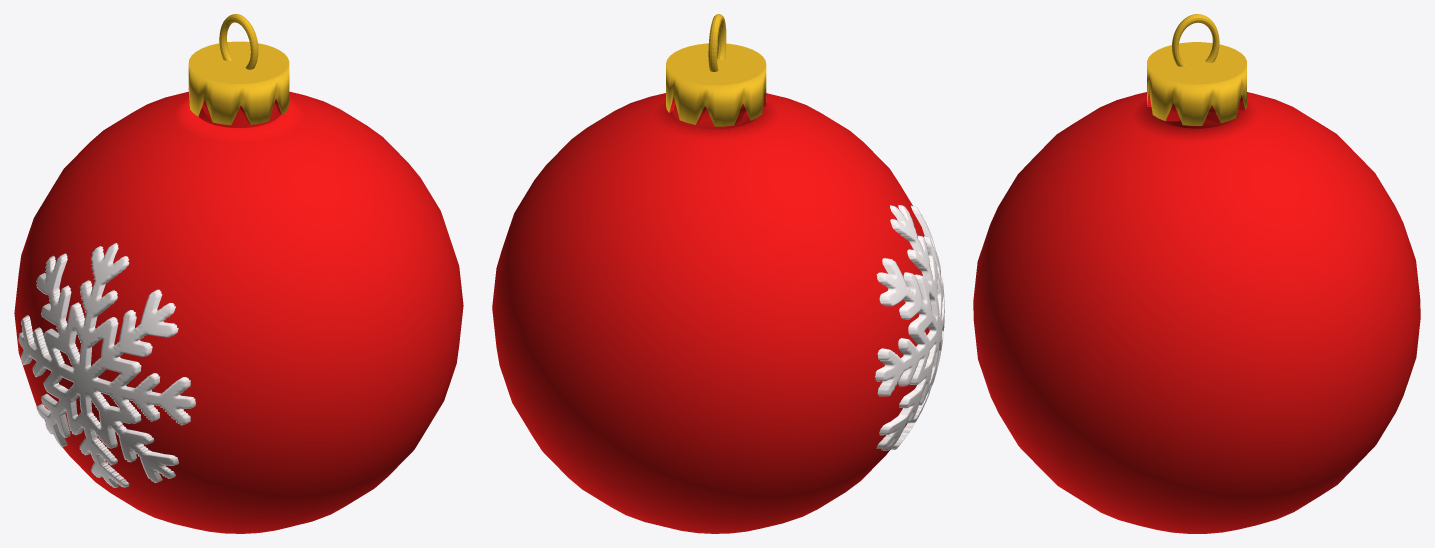
File: bell-4.glb
The picture shows the model from 3 angles, left to right: view 1: azimuth 30°, elevation 25°; view 2: azimuth 150°, elevation 25°; view 3: azimuth 270°, elevation 25°; orthographic projection.
Visible parts, largest first — view 1: Object_2, Object_4, Object_5; view 2: Object_2, Object_4, Object_5; view 3: Object_2, Object_5.
Part boxes in pixels (bbox=[...]): Object_2: bbox=[14, 88, 463, 533]; Object_4: bbox=[18, 243, 195, 487]; Object_5: bbox=[188, 14, 289, 125]; Object_2: bbox=[492, 90, 929, 533]; Object_4: bbox=[875, 205, 944, 450]; Object_5: bbox=[666, 14, 766, 126]; Object_2: bbox=[973, 91, 1420, 533]; Object_5: bbox=[1147, 14, 1246, 125].
Size of the model in its own units: 3.2 by 3.88 by 3.15.
